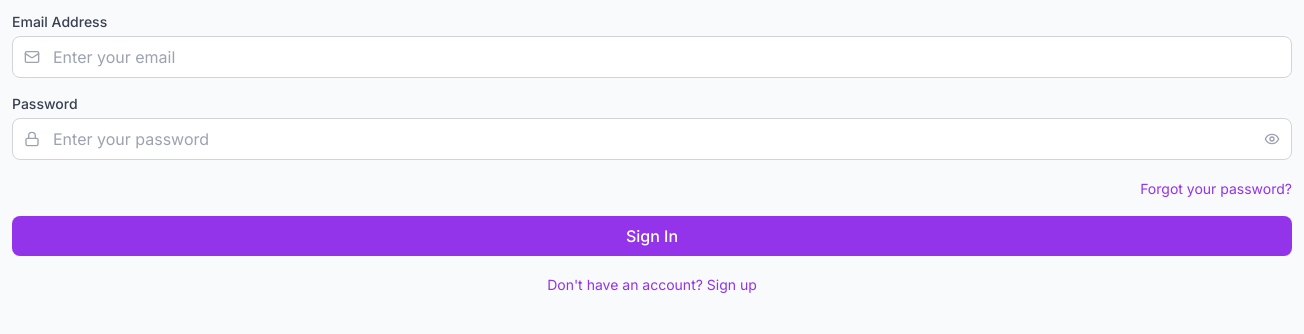
Test: LoginForm › validates password length
In the field labelled "Email Address": (652, 57) [12,36,1292,78], type "test@example.com"
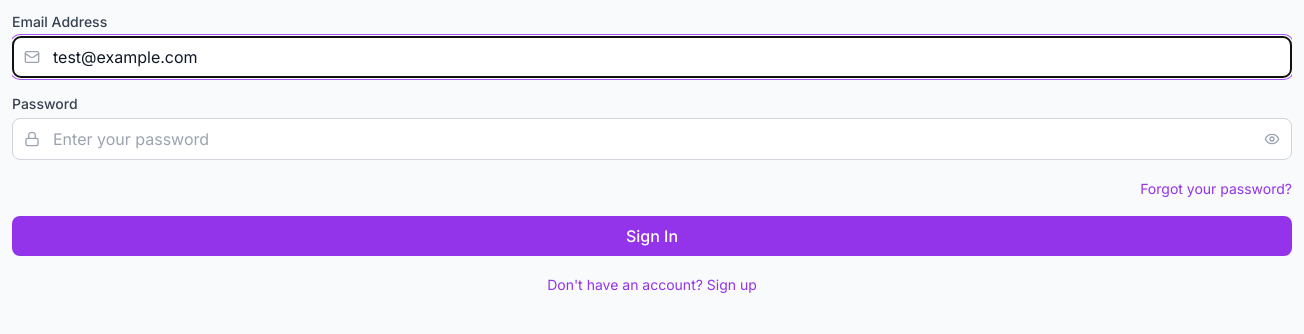
In the password field with placeholder "Enter your password": (652, 139) [12,118,1292,160], type "123"
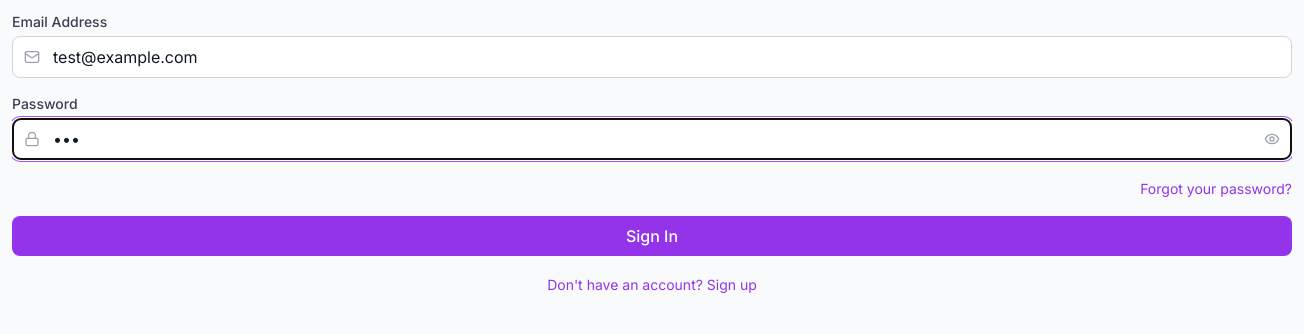
Click the button "Sign In": (652, 236) [12,216,1292,256]
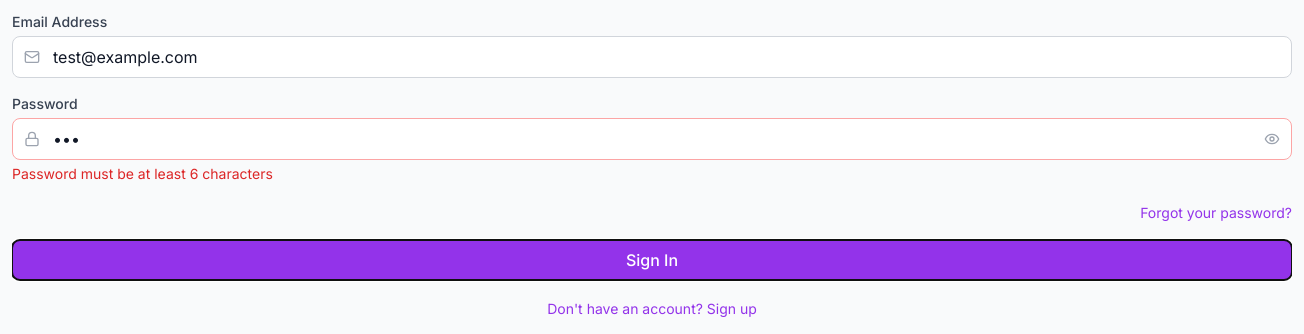
Now the text "Password must be at least 6 characters" is shown, box [12,165,273,182]
